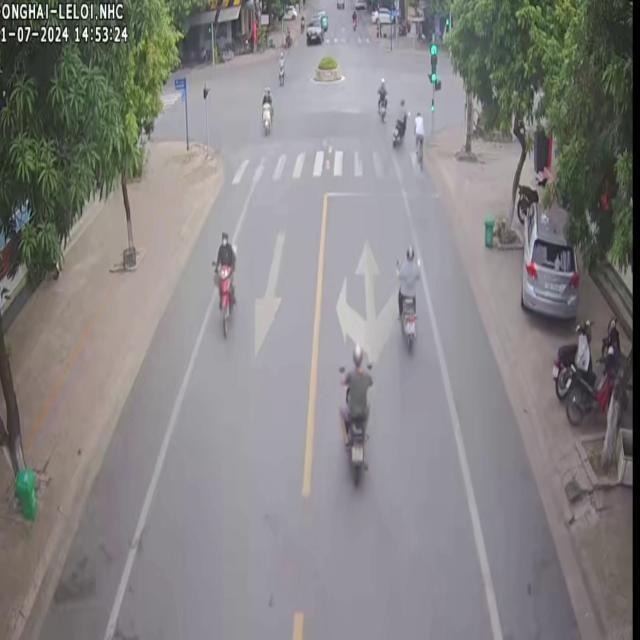car: (304, 16, 322, 42)
green_light: (429, 42, 437, 88)
motobike: (338, 342, 370, 482), (396, 245, 418, 349), (212, 231, 233, 336), (390, 98, 406, 147), (259, 85, 272, 134), (376, 76, 386, 120), (276, 47, 283, 85)
stop_line: (326, 188, 442, 196)
